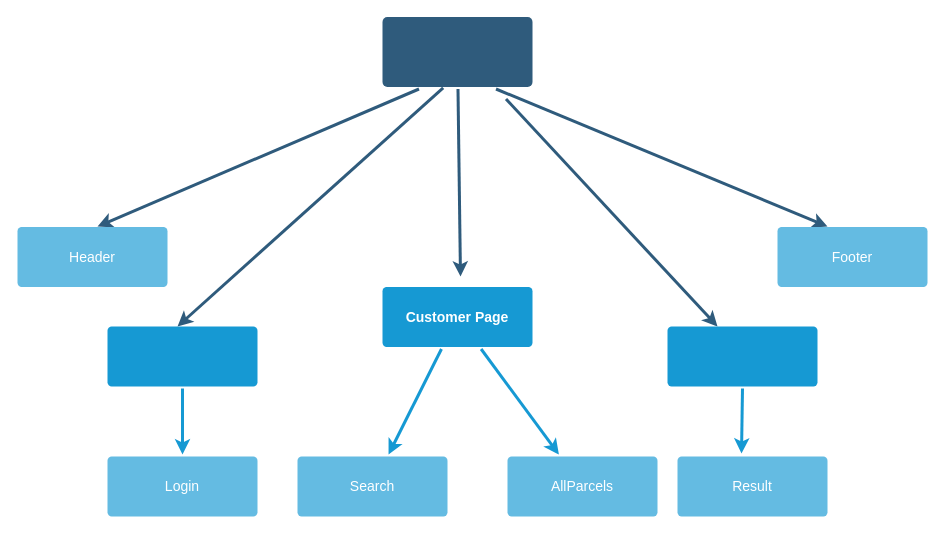
Some shapes in this 944 by 534 pixel diagram are drawn without their labels. The shapes that lost their labels are listed below. From the top down, each one's box as (x1, y1, x2, y2) in pixels, then its label:
(382, 16, 532, 86): App
(107, 326, 257, 386): Home Page
(667, 326, 817, 386): TrackingPage
